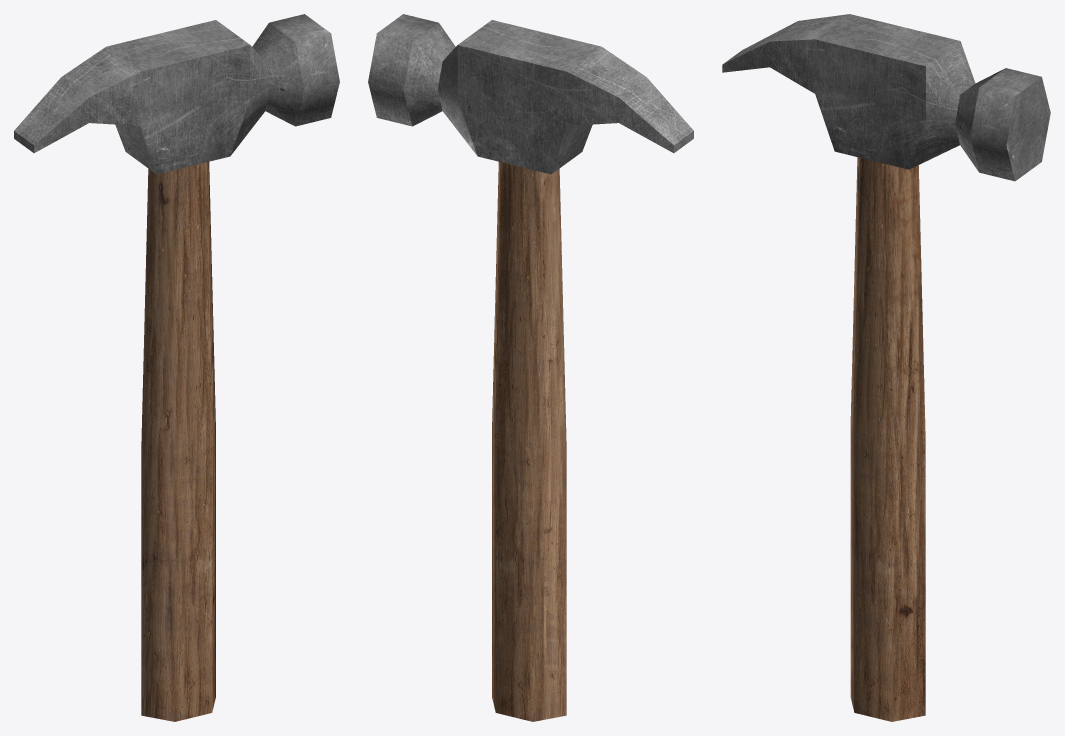
Rendered from hammer.fbx.
The picture shows the model from 3 angles, left to right: view 1: azimuth 30°, elevation 25°; view 2: azimuth 150°, elevation 25°; view 3: azimuth 330°, elevation 25°; orthographic projection.
Parts seen in each view (by area): view 1: Shovel; view 2: Shovel; view 3: Shovel.
Part boxes in pixels (x1,y1,x2,y2): Shovel: (14,14,339,721); Shovel: (368,14,693,721); Shovel: (722,14,1050,721).
Size of the model in its own units: 0.284 by 0.6103 by 0.0738.
